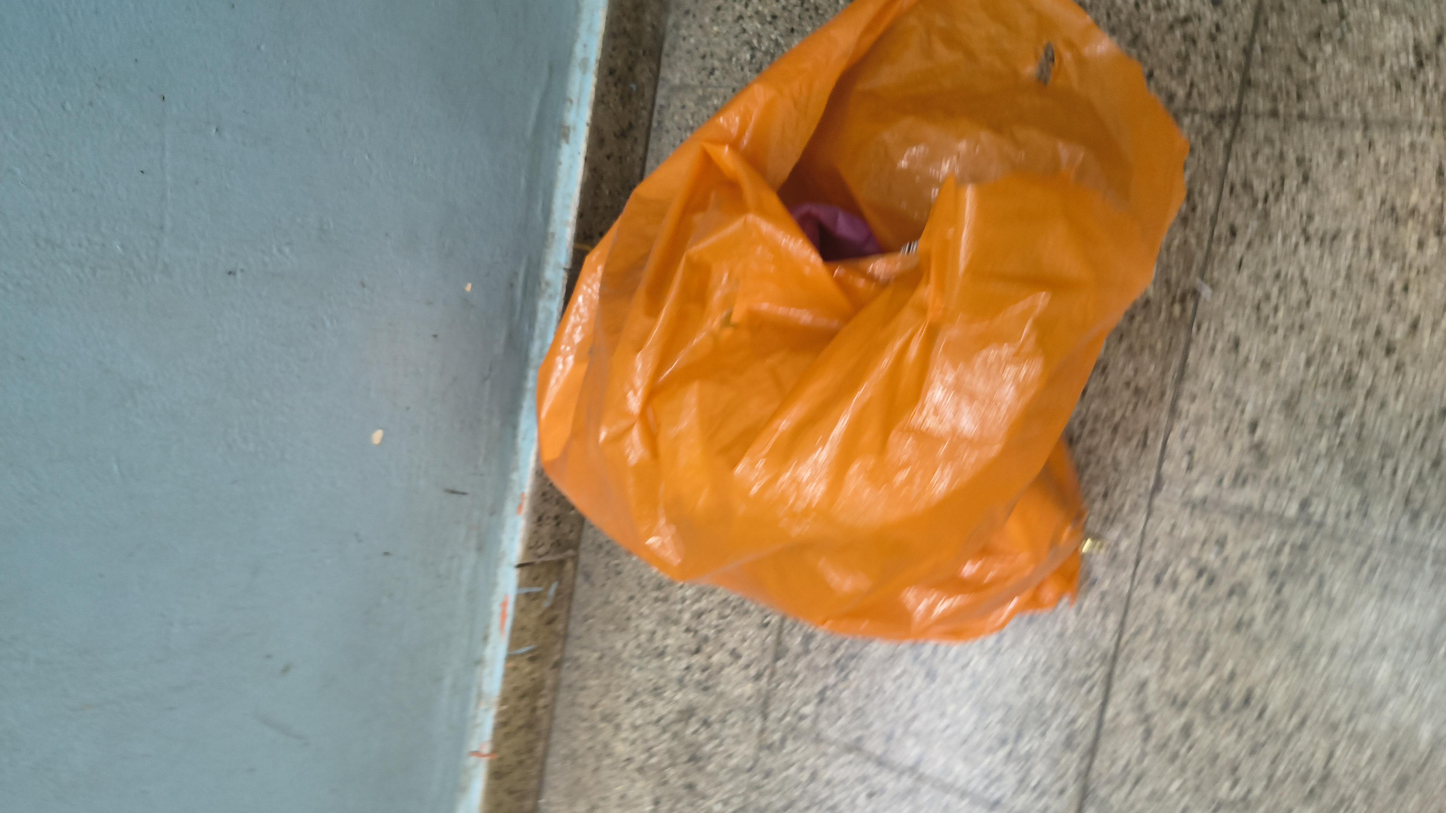Garbage: (226, 244, 1446, 726)
